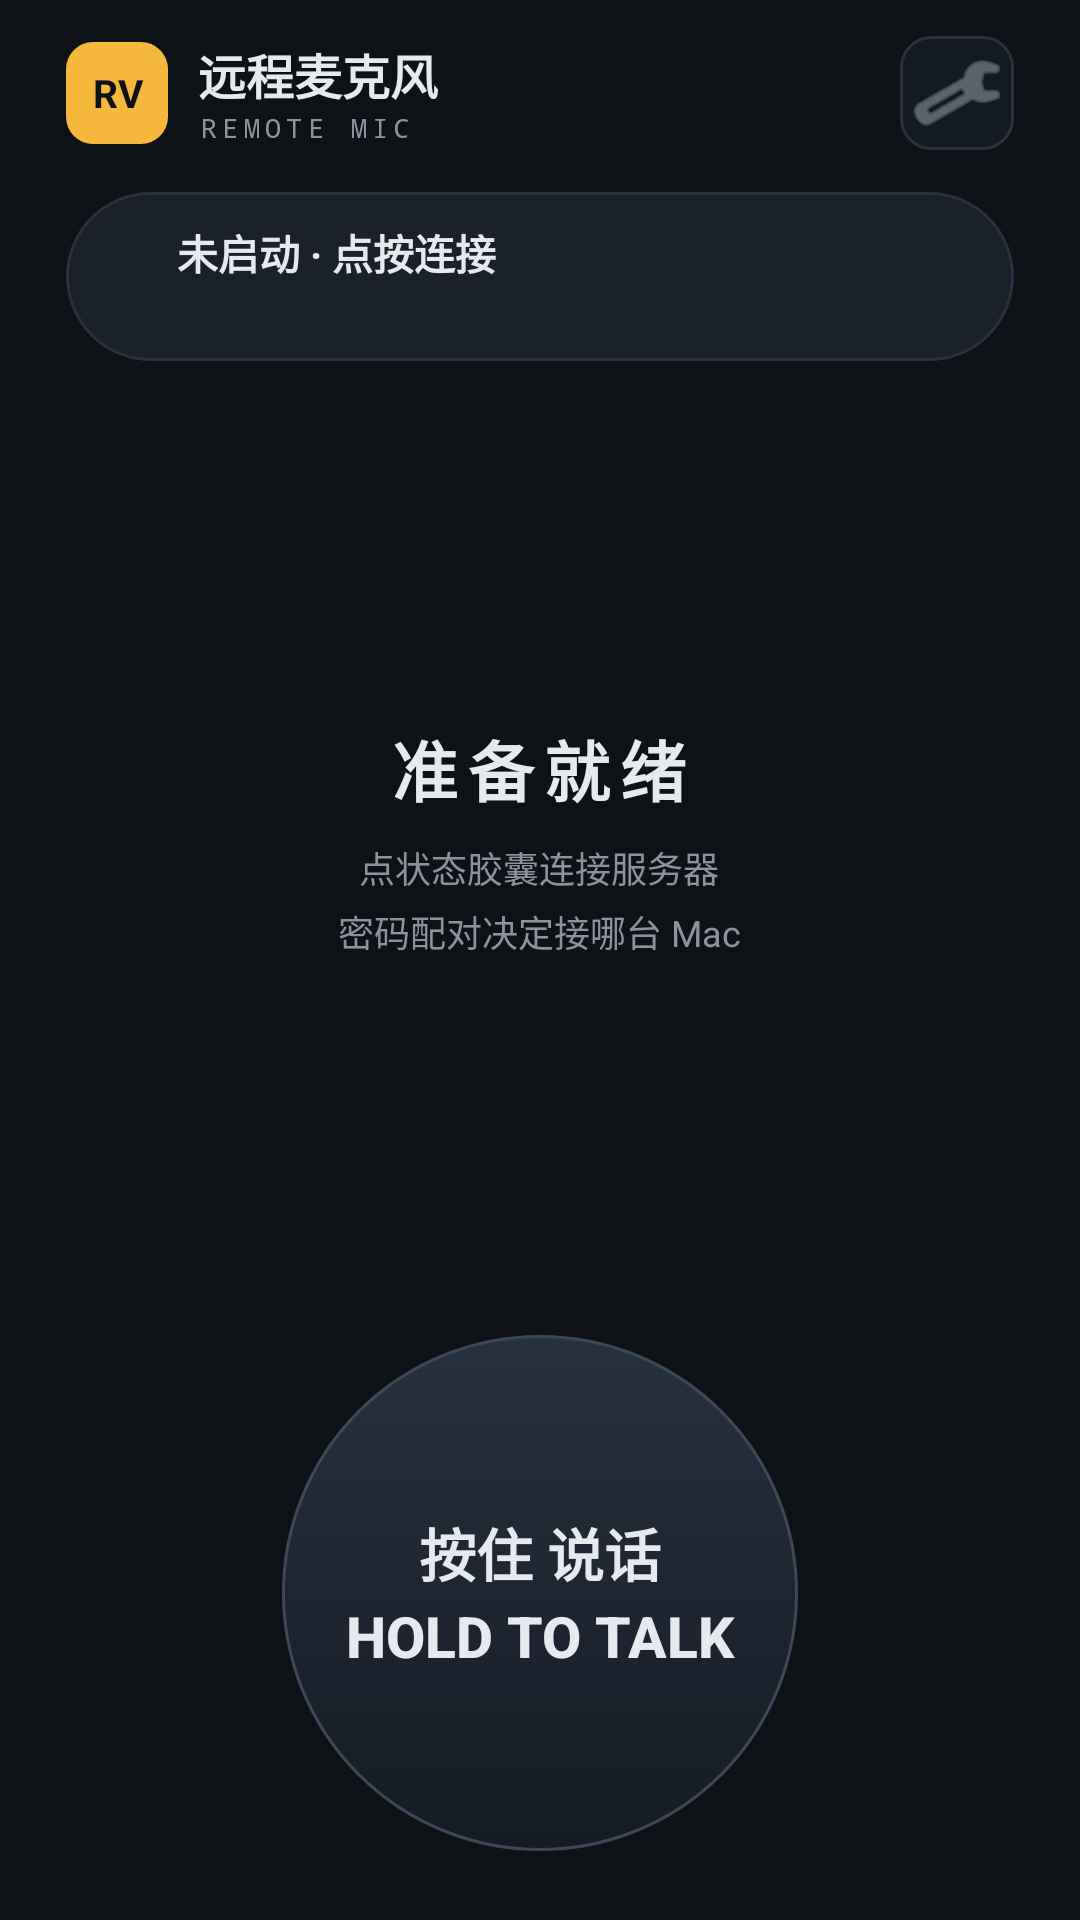

Icons on this 1080 x 1920 Android screen, each with the point to tap as [x,y]:
设置: [957,93]
